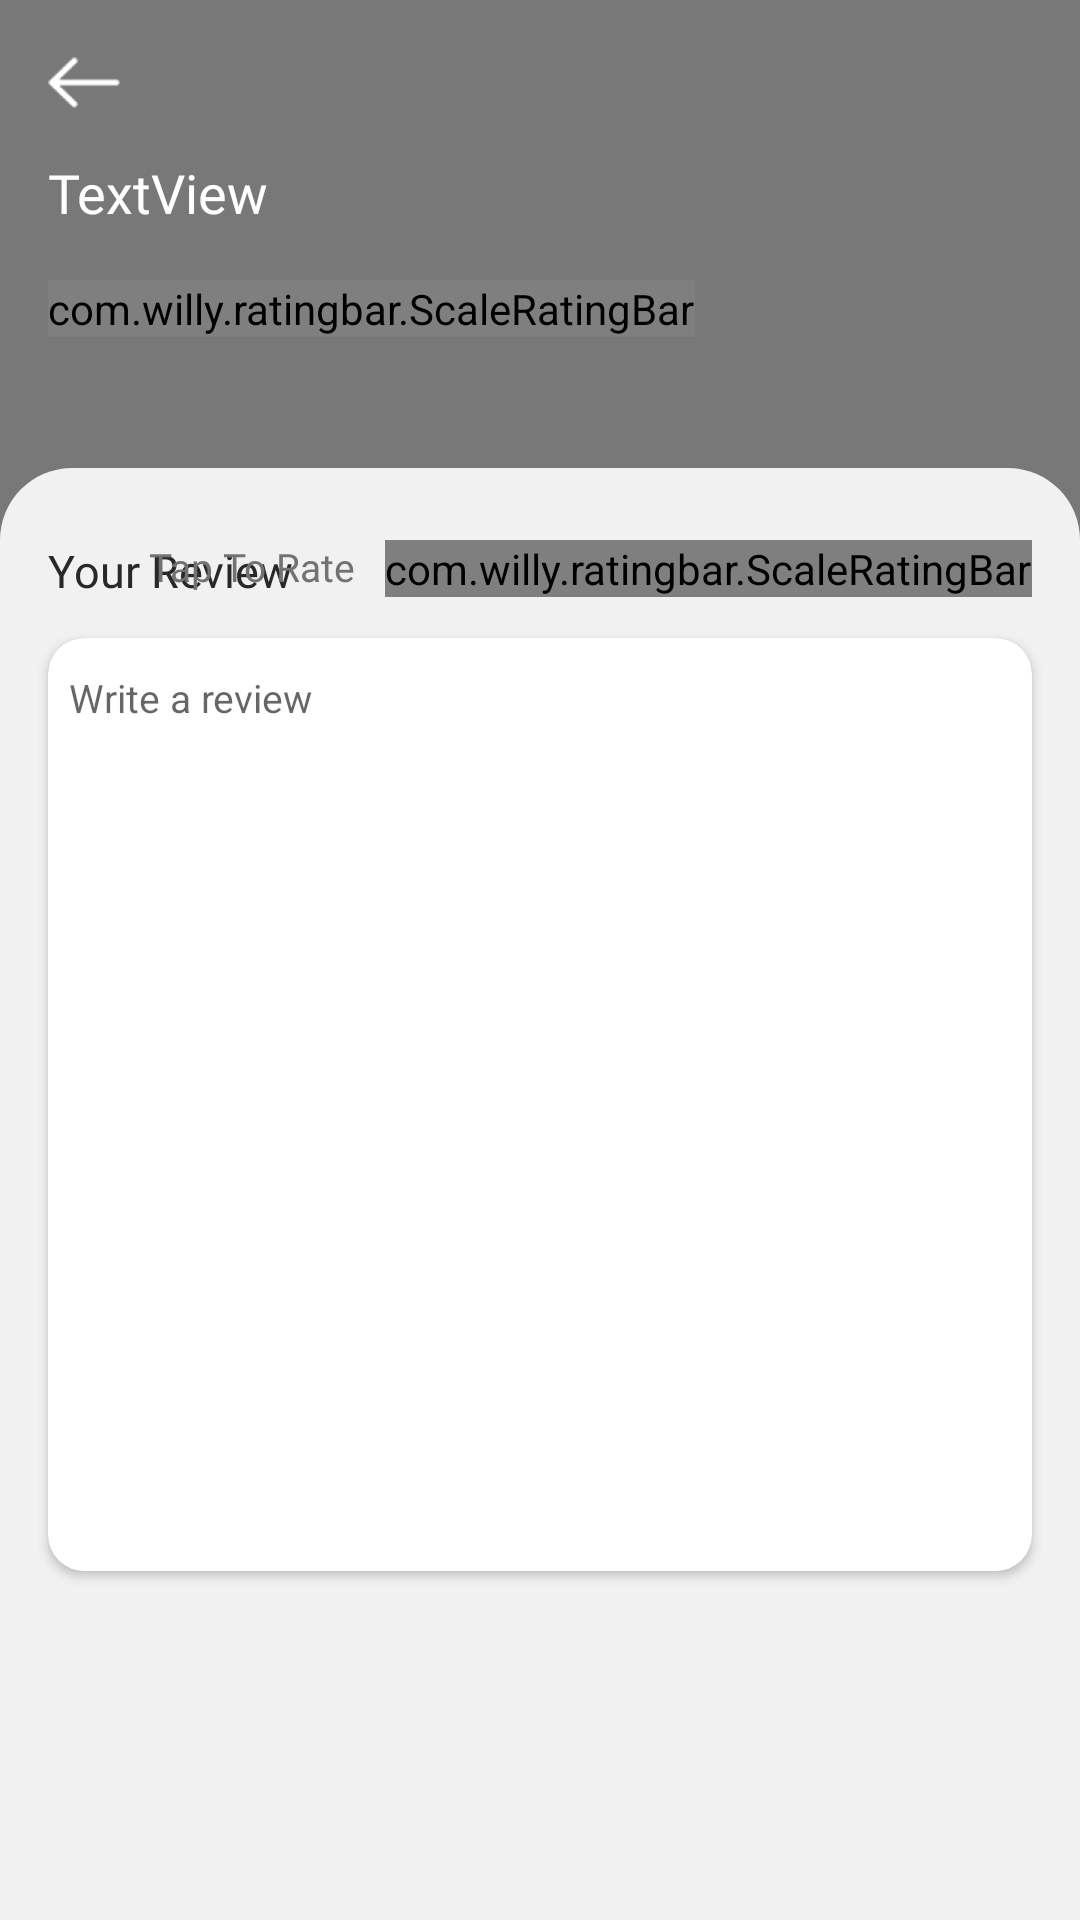

Where to tap for icons on this 1080 × 1920 app screen, as (x,y):
back: (84,82)
